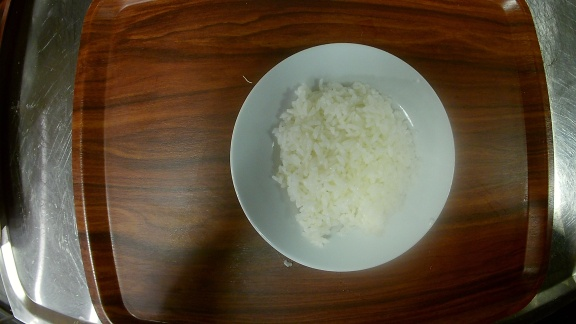pilav: (229, 41, 457, 273)
